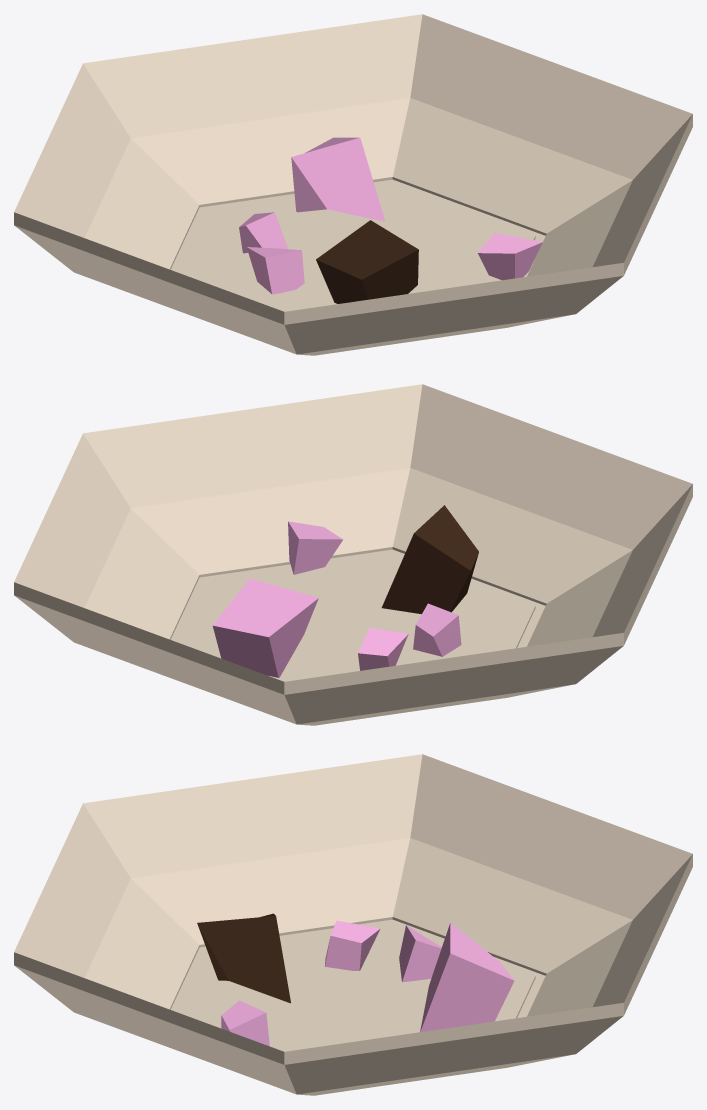
The model's file is AssietteGatoMiette.fbx.
The picture shows the model from 3 angles, top to bottom: view 1: azimuth 30°, elevation 25°; view 2: azimuth 150°, elevation 25°; view 3: azimuth 270°, elevation 25°; orthographic projection.
Parts seen in each view (by area): view 1: EmptyPlate; view 2: EmptyPlate; view 3: EmptyPlate.
Boxes of the visible parts, box(x1,y1,x2,y2) form: EmptyPlate: box(14, 14, 692, 355); EmptyPlate: box(14, 384, 692, 725); EmptyPlate: box(14, 754, 692, 1095).
Size of the model in its own units: 0.5966 by 0.1018 by 0.5751.
